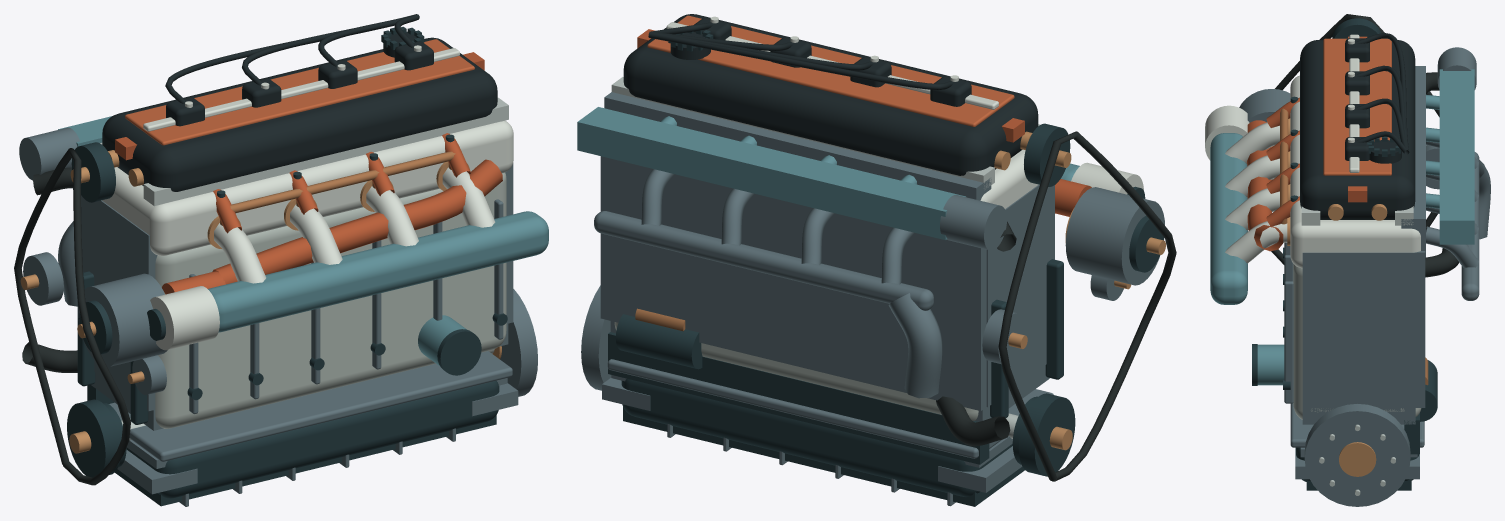
The model's file is inline-four-engine.glb.
The picture shows the model from 3 angles, left to right: view 1: azimuth 30°, elevation 25°; view 2: azimuth 150°, elevation 25°; view 3: azimuth 270°, elevation 25°; orthographic projection. The views are drawn at different scales.
Visible parts, largest first — view 1: EngineBlockExterior, ValveCoverExterior, IntakePlenumExterior, CylinderHeadExterior, OilPanExterior, OilPanFlange, ValveCoverAccent, IntakeManifoldRunner (×4), EngineBlockSide (×2), SerpentineBelt, ExhaustManifold, AlternatorHousing (+27 smaller); view 2: EngineBlockRear, ValveCoverExterior, IntakePlenum, OilPanExterior, CrankcaseRear, ExhaustCollectorExterior, ValveCoverAccent, EngineBlockSide, SerpentineBelt, CylinderHeadRear, AlternatorHousing, OilPanFlange (+23 smaller); view 3: EngineBlockSide, ValveCoverExterior, Flywheel, IntakePlenum, ValveCoverAccent, CylinderHeadExterior, IntakePlenumExterior, IntakeManifoldRunner (×4), CylinderHeadRear, IgnitionWire (×4), IgnitionCoil (×4), EngineBlockRear (+26 smaller).
Part boxes in pixels (x1=…): EngineBlockExterior: x1=155, y1=172, x2=506, y2=428; ValveCoverExterior: x1=102, y1=37, x2=497, y2=191; IntakePlenumExterior: x1=208, y1=211, x2=548, y2=332; CylinderHeadExterior: x1=102, y1=120, x2=513, y2=255; OilPanExterior: x1=126, y1=380, x2=499, y2=498; OilPanFlange: x1=109, y1=351, x2=512, y2=461; ValveCoverAccent: x1=125, y1=39, x2=474, y2=145; IntakeManifoldRunner (×4): x1=214, y1=167, x2=495, y2=283; EngineBlockSide (×2): x1=84, y1=163, x2=513, y2=411; SerpentineBelt: x1=14, y1=148, x2=130, y2=485; ExhaustManifold: x1=212, y1=159, x2=502, y2=284; AlternatorHousing: x1=78, y1=273, x2=167, y2=367; EngineBlockRear: x1=600, y1=156, x2=986, y2=410; ValveCoverExterior: x1=623, y1=14, x2=1038, y2=175; IntakePlenum: x1=577, y1=107, x2=965, y2=240; OilPanExterior: x1=621, y1=378, x2=1012, y2=496; CrankcaseRear: x1=608, y1=332, x2=989, y2=464; ExhaustCollectorExterior: x1=594, y1=211, x2=933, y2=310; ValveCoverAccent: x1=647, y1=15, x2=1014, y2=126; EngineBlockSide: x1=986, y1=184, x2=1054, y2=407; SerpentineBelt: x1=998, y1=131, x2=1176, y2=481; CylinderHeadRear: x1=604, y1=92, x2=991, y2=200; AlternatorHousing: x1=1065, y1=187, x2=1164, y2=285; OilPanFlange: x1=607, y1=359, x2=1053, y2=458; EngineBlockSide: x1=1302, y1=252, x2=1415, y2=408; ValveCoverExterior: x1=1300, y1=40, x2=1415, y2=219; Flywheel: x1=1304, y1=404, x2=1410, y2=506; IntakePlenum: x1=1439, y1=69, x2=1474, y2=244; ValveCoverAccent: x1=1323, y1=38, x2=1391, y2=175; CylinderHeadExterior: x1=1290, y1=75, x2=1420, y2=268; IntakePlenumExterior: x1=1210, y1=133, x2=1247, y2=304; IntakeManifoldRunner (×4): x1=1225, y1=122, x2=1287, y2=263; CylinderHeadRear: x1=1401, y1=66, x2=1425, y2=257; IgnitionWire (×4): x1=1357, y1=32, x2=1409, y2=154; IgnitionCoil (×4): x1=1345, y1=38, x2=1369, y2=160; EngineBlockRear: x1=1415, y1=251, x2=1425, y2=407.
Size of the model in its own units: 6.34 by 4.83 by 3.67.
